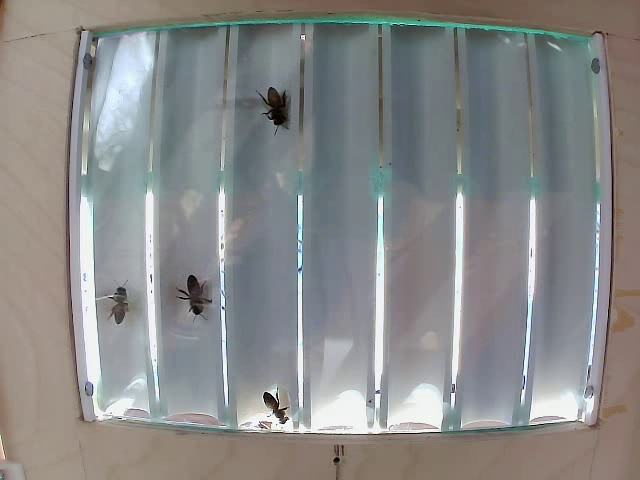bee: (265, 64, 291, 140), (177, 268, 213, 317), (255, 383, 292, 430), (100, 276, 131, 323)
